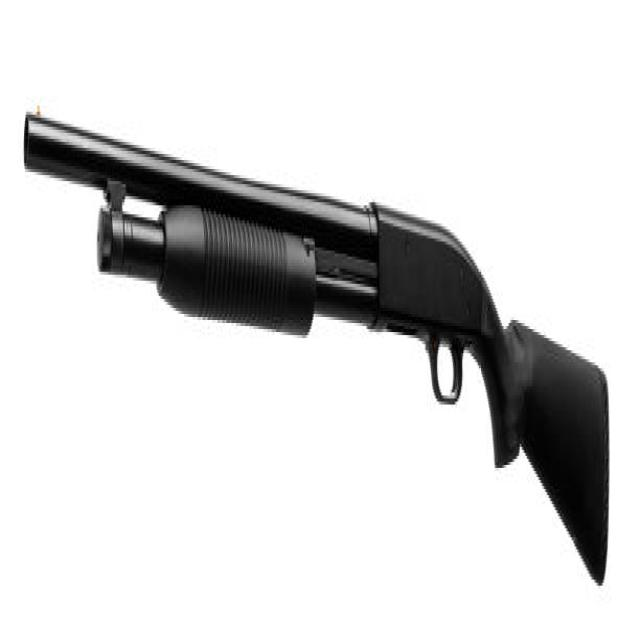rifle: (26, 89, 619, 616)
